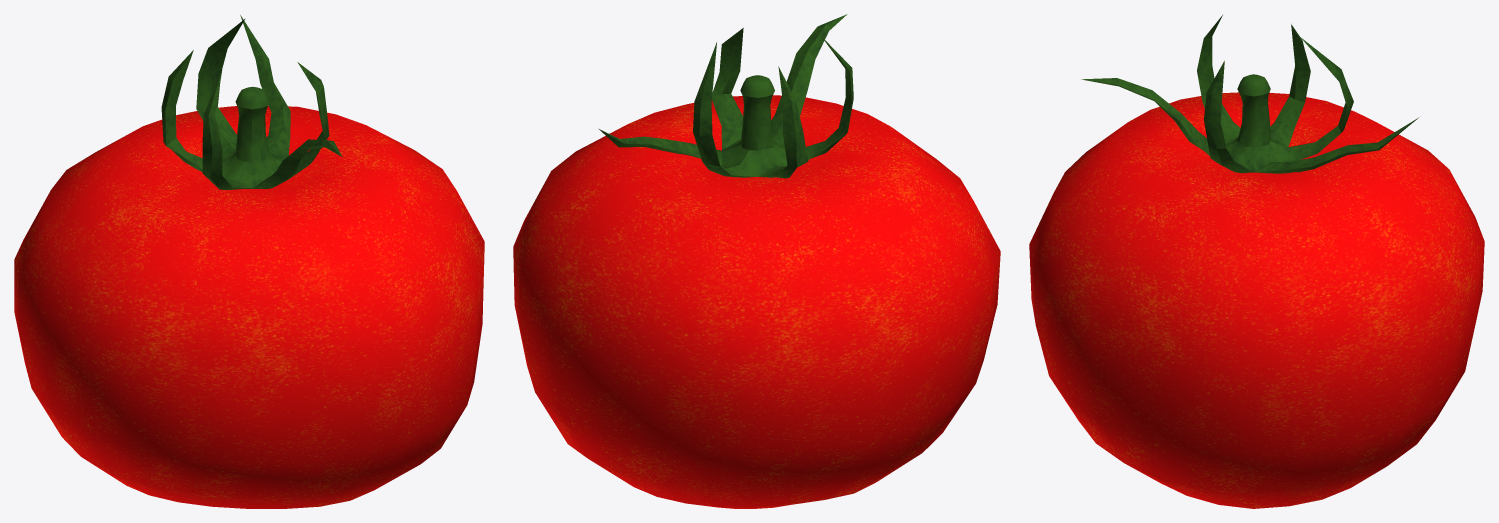
File: tomato05.fbx
3 views of the same model, side by side, from view 1: azimuth 30°, elevation 25°; view 2: azimuth 150°, elevation 25°; view 3: azimuth 270°, elevation 25° (orthographic). The views are drawn at different scales.
Visible parts, largest first — view 1: Tomato05; view 2: Tomato05; view 3: Tomato05.
Boxes of the visible parts, x1,y1,x2,y2 form: Tomato05: (14, 15, 484, 508); Tomato05: (513, 14, 1000, 508); Tomato05: (1029, 15, 1484, 508).
Bounding box in the file's own units: 7.12 × 7.46 × 6.92.
Materials: 1 (1 with a texture image).
